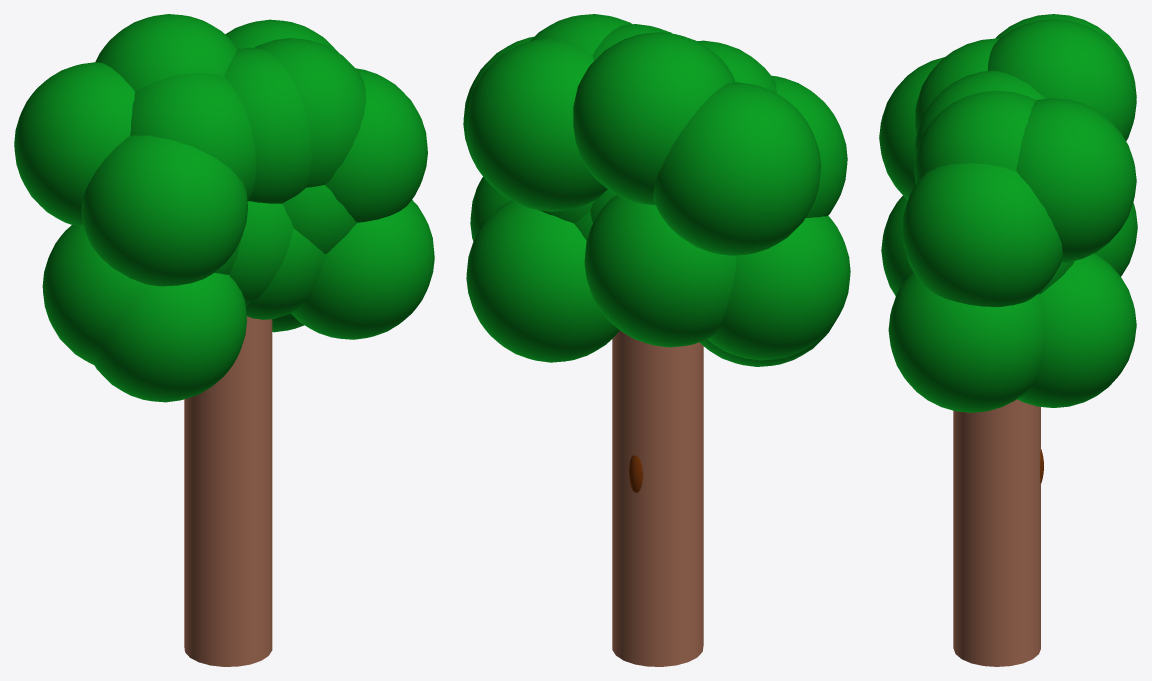
File: LargeTree.fbx
3 renders of one model, left to right at view 1: azimuth 30°, elevation 25°; view 2: azimuth 150°, elevation 25°; view 3: azimuth 270°, elevation 25°, orthographic. The views are drawn at different scales.
Visible parts, largest first — view 1: Trunk, Leaf_10, Leaf_11, Leaf_13, Leaf_8, Leaf_9, Leaf_4, Leaf_5, Leaf_12, Leaf_3, Leaf_14, Leaf (+3 smaller); view 2: Trunk, Leaf_13, Leaf_14, Leaf_15, Leaf_16, Leaf_6, Leaf_12, Leaf_10, Leaf_3, Leaf_5, Leaf_8, Leaf_11 (+2 smaller); view 3: Trunk, Leaf_9, Leaf_8, Leaf_15, Leaf_16, Leaf_14, Leaf_3, Leaf_10, Leaf_5, Leaf_4, Leaf_11, Leaf_6 (+1 smaller).
Part boxes in pixels (x1,y1,x2,y2): Trunk: (184, 316, 272, 666); Leaf_10: (81, 135, 248, 286); Leaf_11: (94, 273, 246, 402); Leaf_13: (14, 62, 135, 225); Leaf_8: (291, 200, 434, 339); Leaf_9: (325, 68, 427, 222); Leaf_4: (224, 47, 311, 203); Leaf_5: (130, 73, 256, 201); Leaf_12: (42, 225, 150, 364); Leaf_3: (254, 38, 365, 187); Leaf_14: (95, 14, 238, 91); Leaf: (229, 201, 293, 305); Trunk: (612, 330, 703, 666); Leaf_13: (653, 82, 820, 255); Leaf_14: (573, 32, 735, 204); Leaf_15: (466, 38, 607, 211); Leaf_16: (466, 201, 619, 362); Leaf_6: (584, 195, 736, 347); Leaf_12: (707, 215, 850, 360); Leaf_10: (771, 75, 847, 217); Leaf_3: (530, 14, 632, 55); Leaf_5: (697, 40, 776, 93); Leaf_8: (470, 177, 509, 241); Leaf_11: (700, 327, 831, 366); Trunk: (953, 399, 1040, 666); Leaf_9: (902, 163, 1062, 306); Leaf_8: (888, 271, 1045, 412); Leaf_15: (1016, 98, 1136, 262); Leaf_16: (1017, 253, 1136, 407); Leaf_14: (987, 19, 1136, 140); Leaf_3: (914, 90, 1036, 184); Leaf_10: (879, 57, 944, 199); Leaf_5: (915, 38, 999, 133); Leaf_4: (914, 70, 1045, 160); Leaf_11: (881, 195, 913, 296); Leaf_6: (1094, 203, 1137, 276).
Bounding box in the file's own units: 1131 × 1855 × 716.
